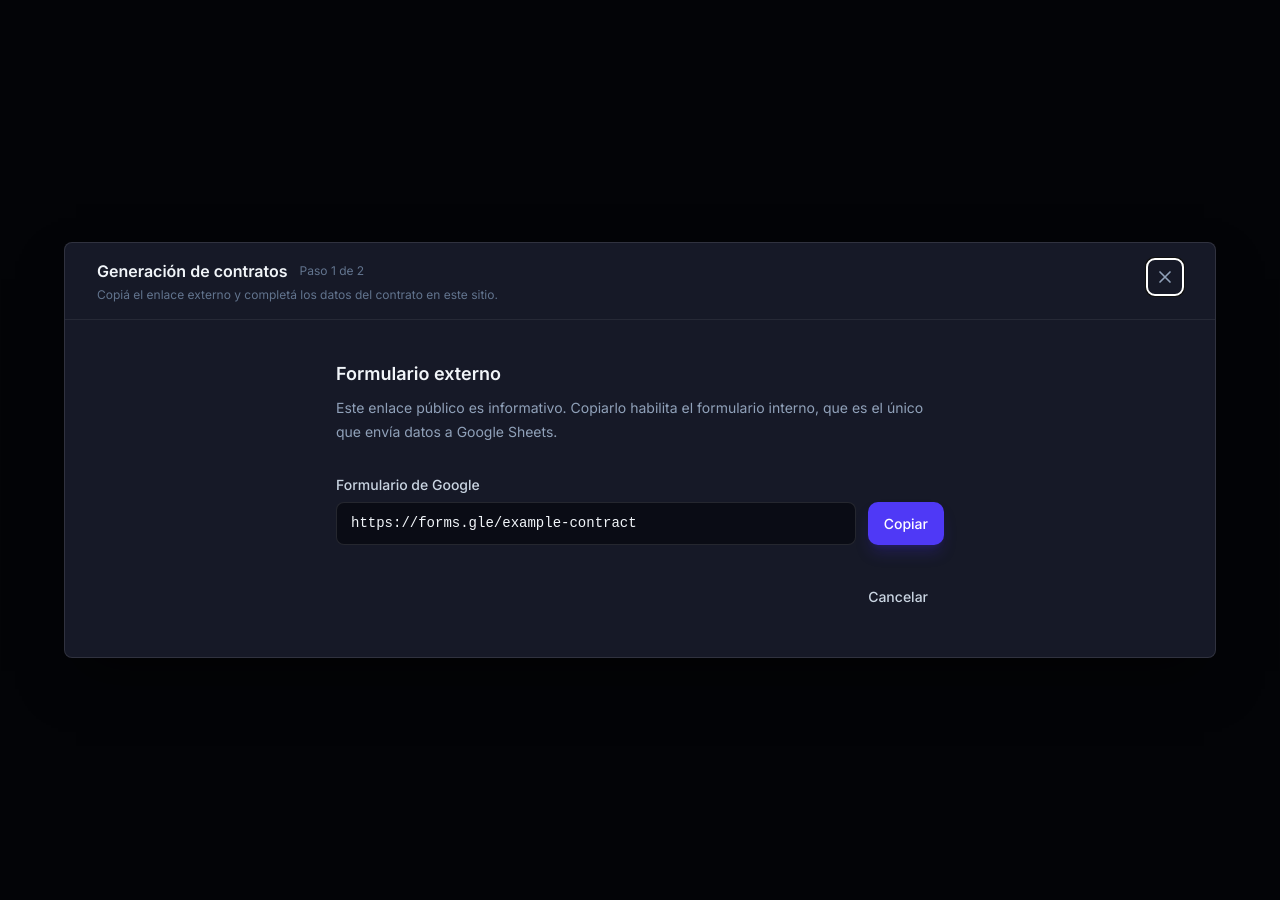
ContractGenerationModal › copies the external link and advances to the JSON-rendered form
Expected: the text "Paso 1 de 2" is shown, [300, 263, 364, 279]
Click the button "Copiar" at x=906, y=524, box [868, 502, 944, 545]
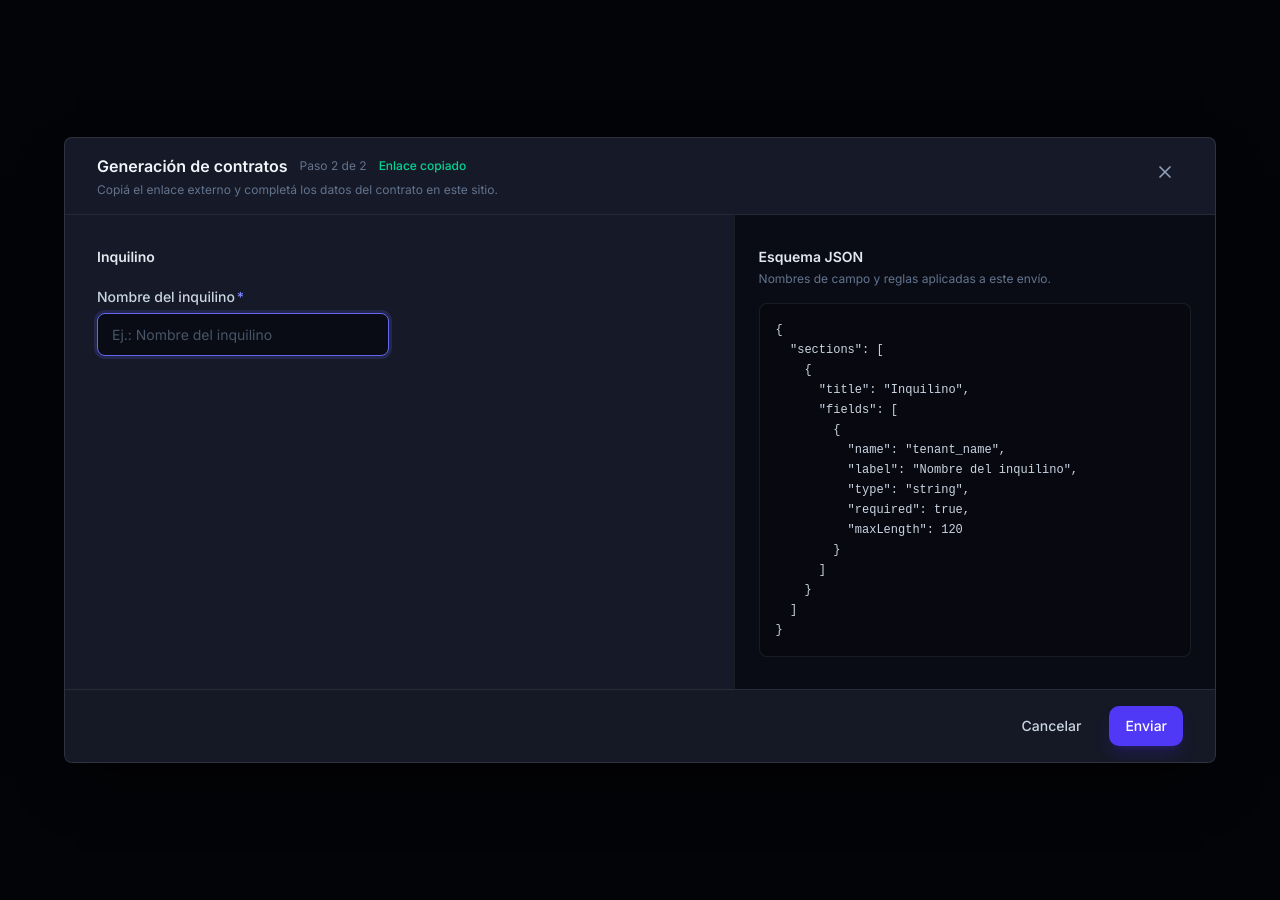
Now the field labelled "Nombre del inquilino*" is shown, box [97, 313, 389, 356]
Now the text "Paso 2 de 2" is shown, box [300, 158, 367, 174]
Now the text "Enlace copiado" is shown, box [379, 158, 466, 174]
